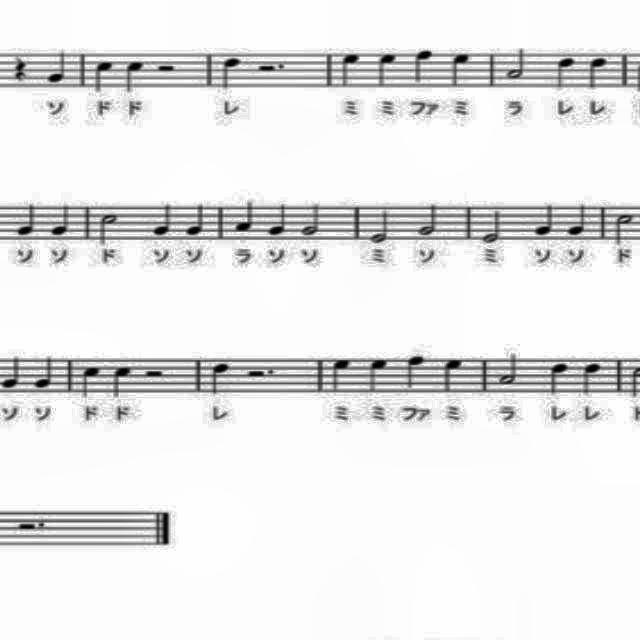Half-note: (90, 207, 122, 250), (412, 198, 443, 242), (493, 349, 522, 389), (482, 200, 506, 248), (299, 202, 325, 240), (366, 207, 392, 245), (612, 208, 636, 245), (506, 44, 528, 82)
Half-rest: (253, 55, 289, 77), (15, 516, 50, 536), (246, 362, 278, 382), (139, 366, 167, 382), (155, 59, 179, 77)
Quarter-note: (149, 194, 177, 242), (364, 352, 392, 400), (438, 352, 466, 400), (550, 48, 580, 92), (375, 46, 401, 94), (327, 350, 353, 398), (12, 200, 40, 243), (337, 50, 367, 90), (531, 200, 559, 242), (231, 190, 255, 238), (266, 193, 290, 241), (403, 349, 427, 397), (48, 200, 76, 240), (564, 202, 592, 242), (108, 364, 136, 404), (206, 359, 232, 401), (547, 360, 573, 402), (216, 56, 246, 92), (450, 48, 474, 92), (184, 197, 208, 241), (0, 352, 24, 396), (32, 352, 56, 396), (123, 55, 149, 95), (585, 54, 611, 94), (80, 361, 104, 404), (44, 49, 72, 85), (93, 55, 115, 99), (412, 46, 436, 86), (580, 356, 604, 396)
Quarter-rest: (8, 47, 32, 87)
